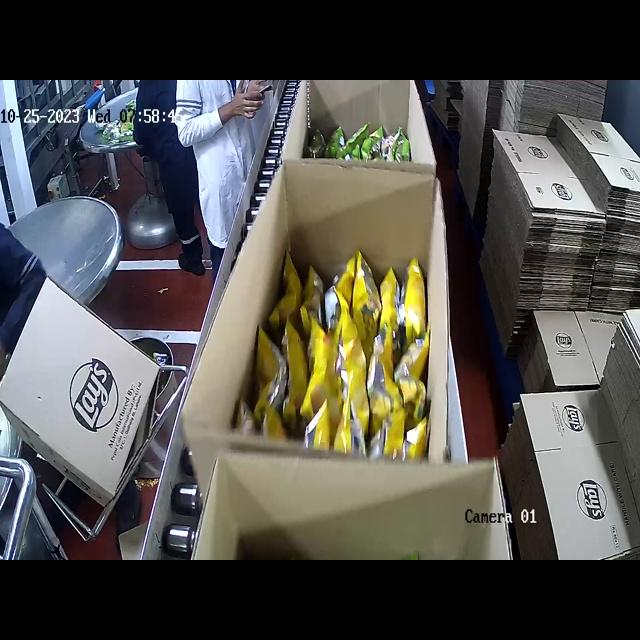salted: (293, 239, 405, 469)
yogurt: (318, 109, 414, 166)
